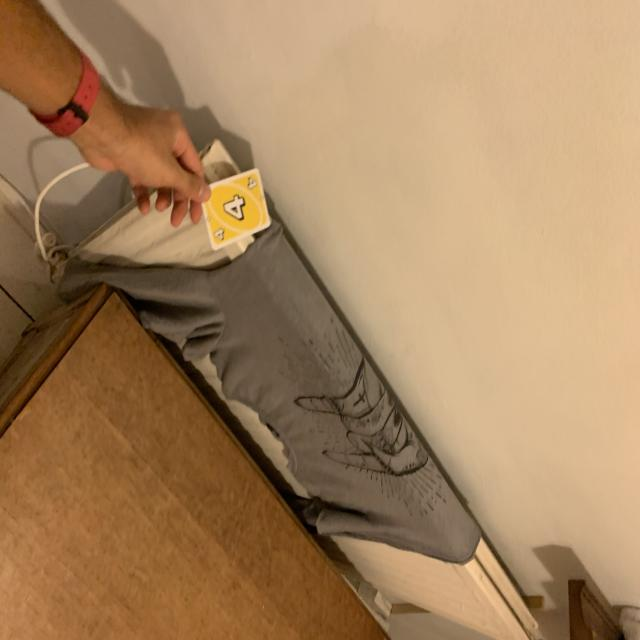lyellow-4: (245, 175, 260, 192)
